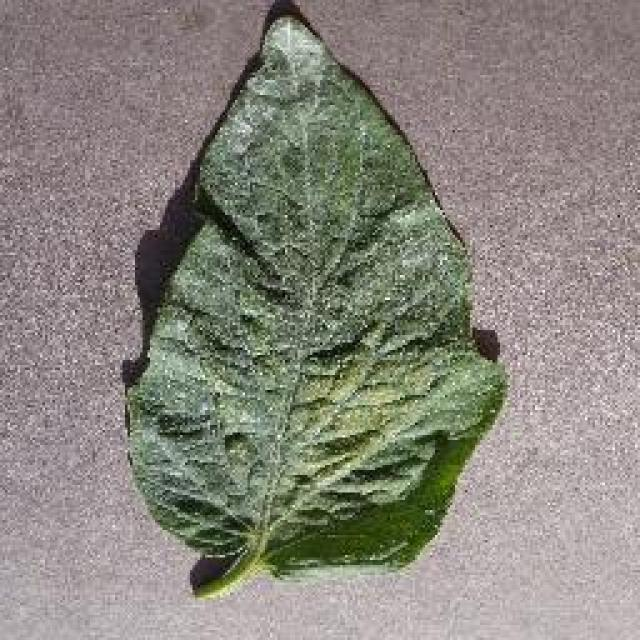Tomato spider mites leaf: (129, 8, 509, 577)
